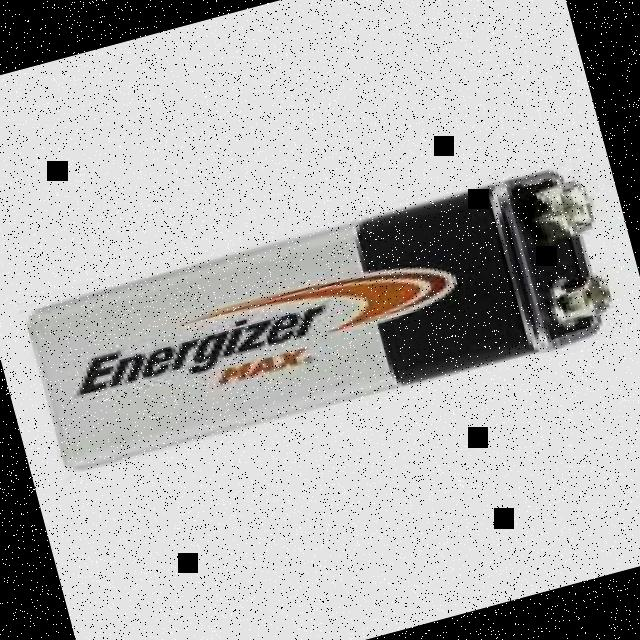battery: (25, 170, 611, 470)
